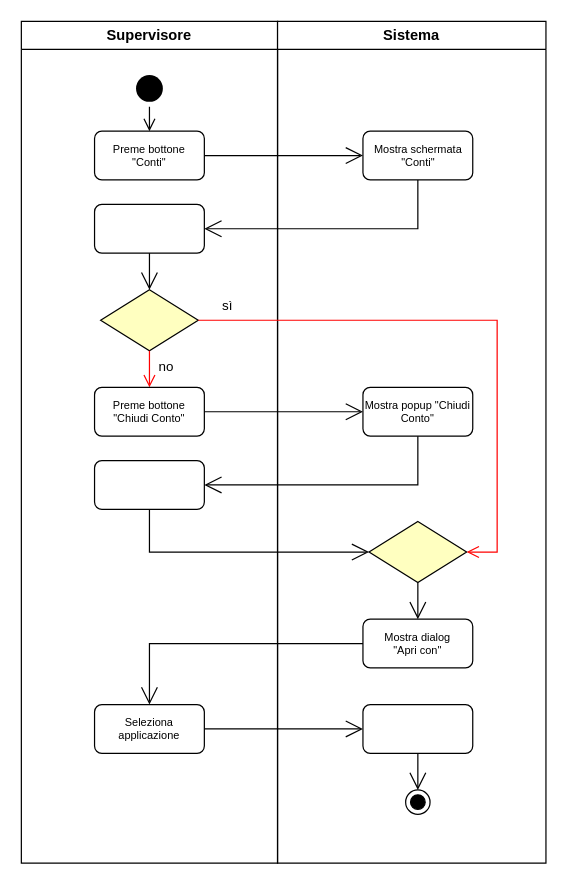
The diagram is 567 pixels wide and 885 high, and some of its shapes have lost their labels. Each missing label, with the centre of its shape:
Apre il conto con l'applicazione selezionata: point (417, 728)
Bottone "Visualizza Conto" premuto?: point (148, 320)
Preme bottone "Conferma": point (148, 484)
Seleziona il tavolo: point (148, 228)
